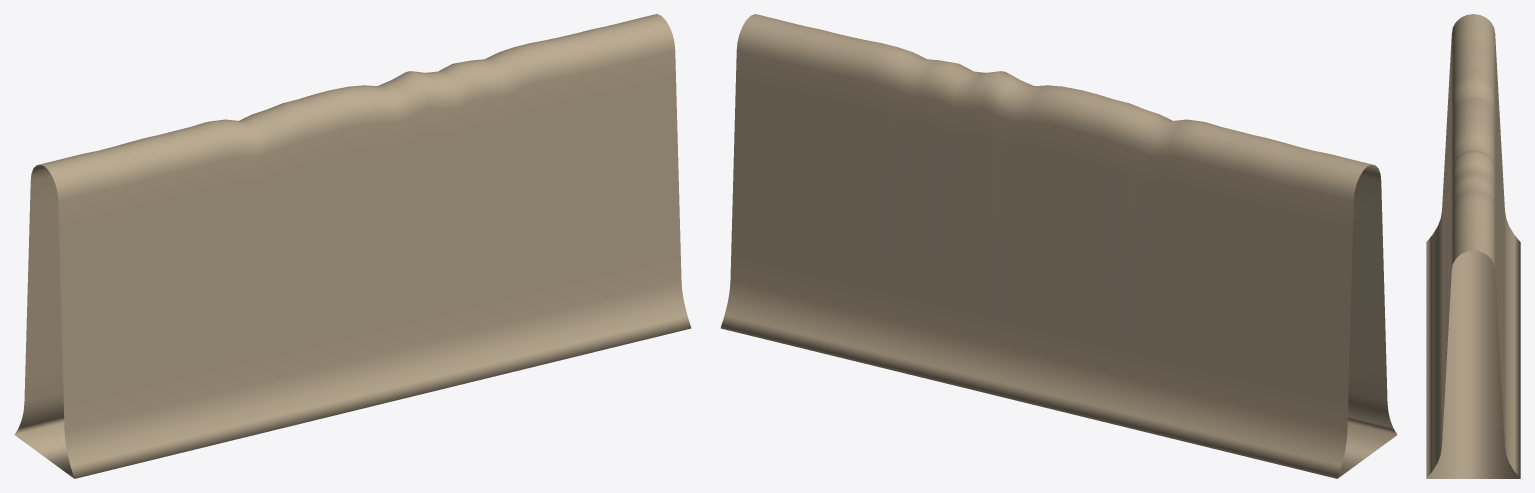
Rendered from KFB_Wall_straight_long.r1.glb.
3 renders of one model, left to right at view 1: azimuth 30°, elevation 25°; view 2: azimuth 150°, elevation 25°; view 3: azimuth 270°, elevation 25°, orthographic. The views are drawn at different scales.
Parts seen in each view (by area): view 1: KFB_Wall_straight_long; view 2: KFB_Wall_straight_long; view 3: KFB_Wall_straight_long.
Part boxes in pixels (x1,y1,x2,y2): KFB_Wall_straight_long: [14, 14, 691, 478]; KFB_Wall_straight_long: [720, 14, 1397, 478]; KFB_Wall_straight_long: [1426, 14, 1520, 478].
Bounding box in the file's own units: 8 × 3.64 × 1.35.
